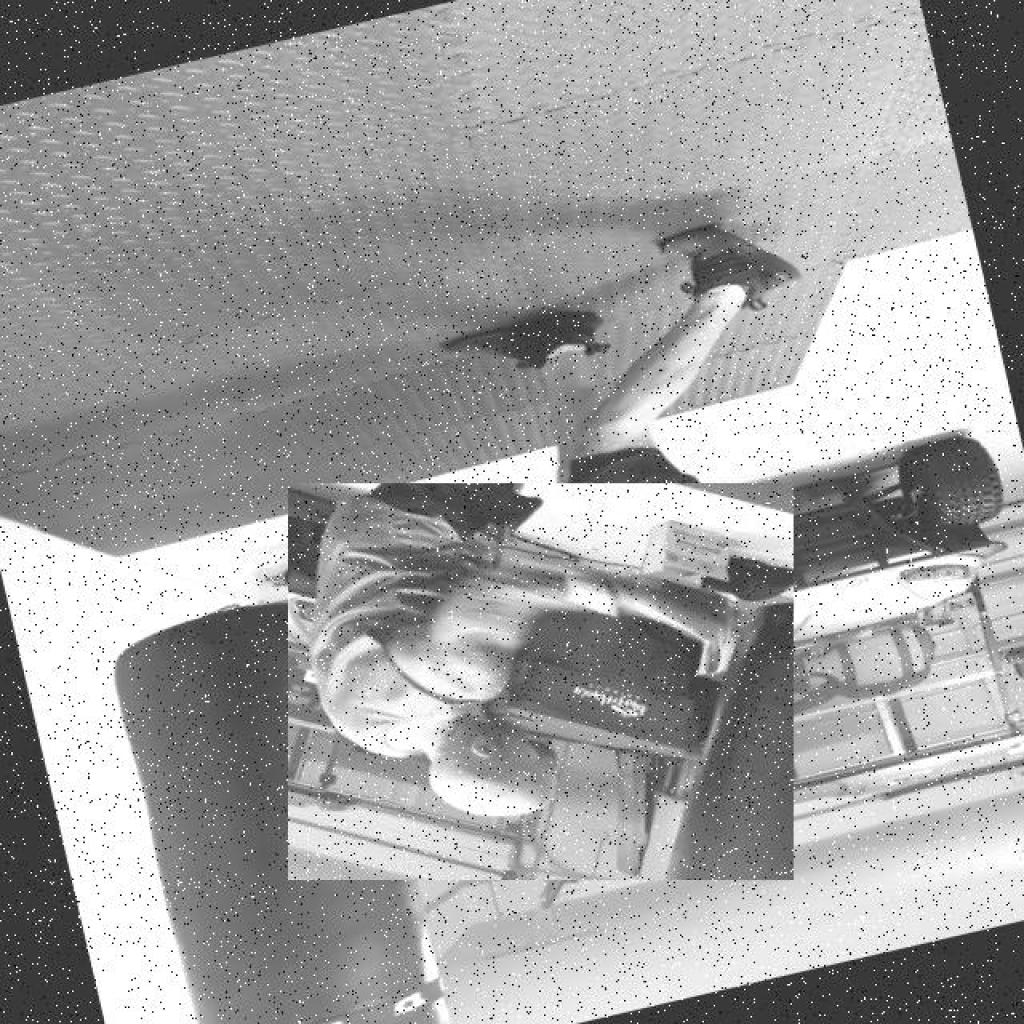bag: (66, 573, 466, 1024)
uppercut: (288, 483, 793, 881)
